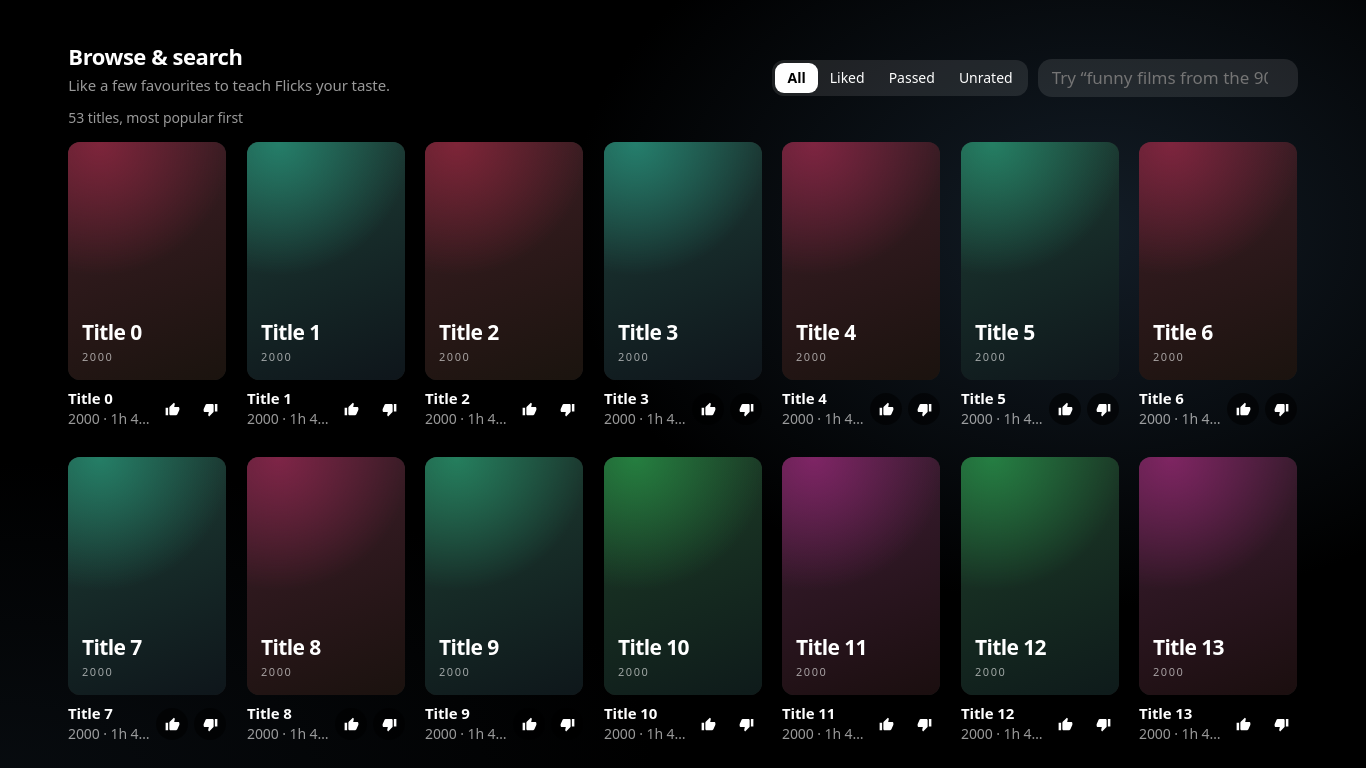
Scenario: searching asks the server and replaces the results
In the search field named "Search the catalogue": (1168, 78) [1038, 59, 1298, 97], type "Title 5"
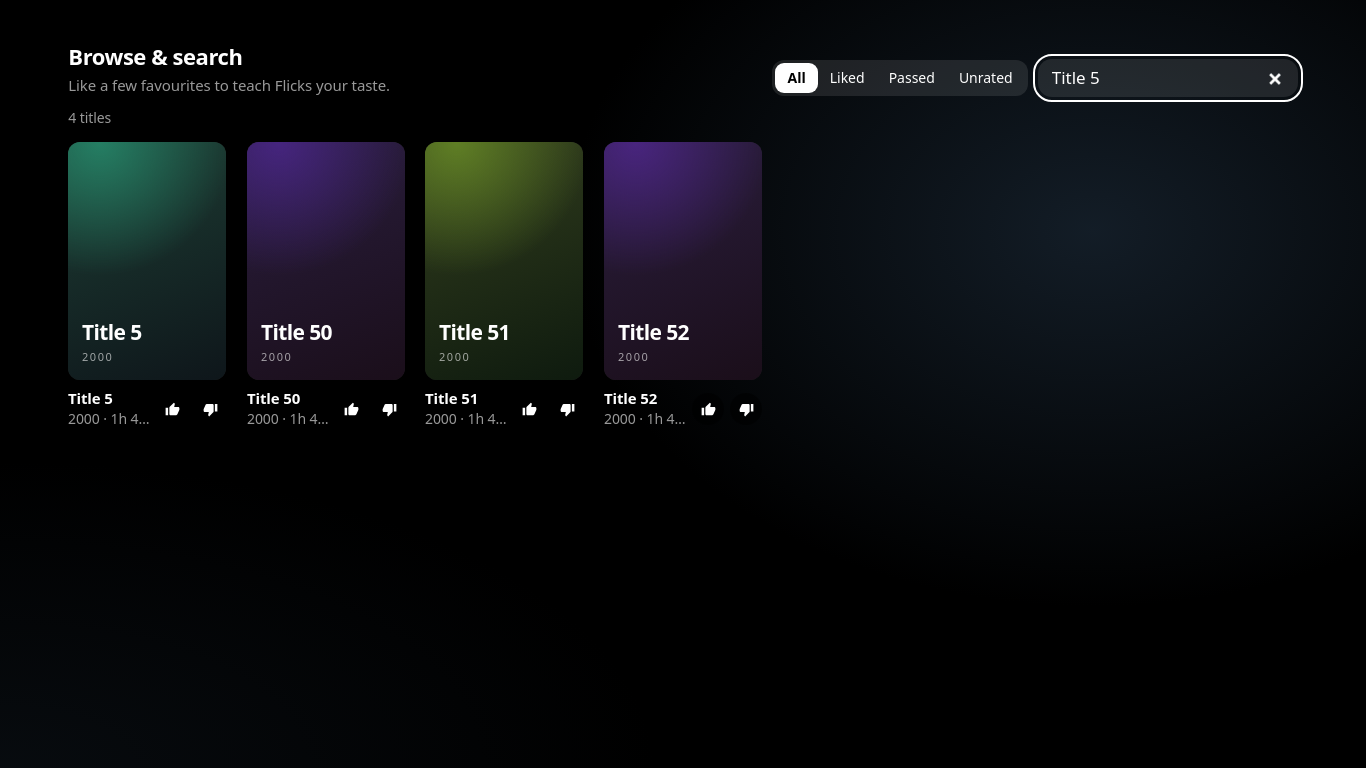
Check: the text "Title 5" is shown, box [82, 318, 142, 346]
Check: the text "4 titles" is shown, box [68, 108, 111, 127]
